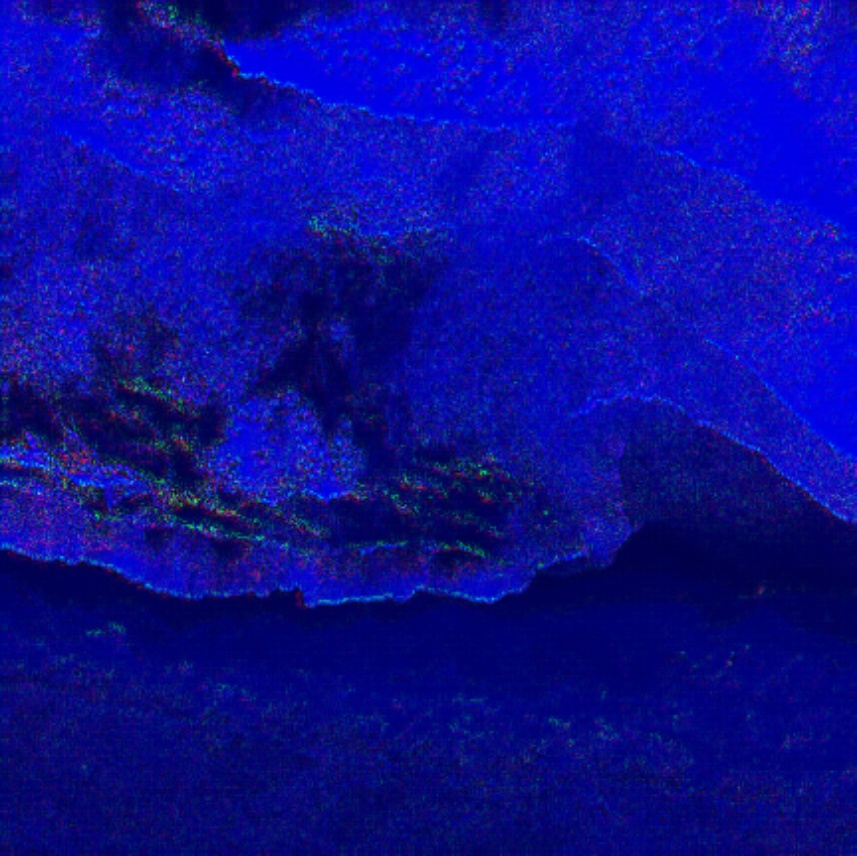rip_current: (171, 84, 553, 567)
